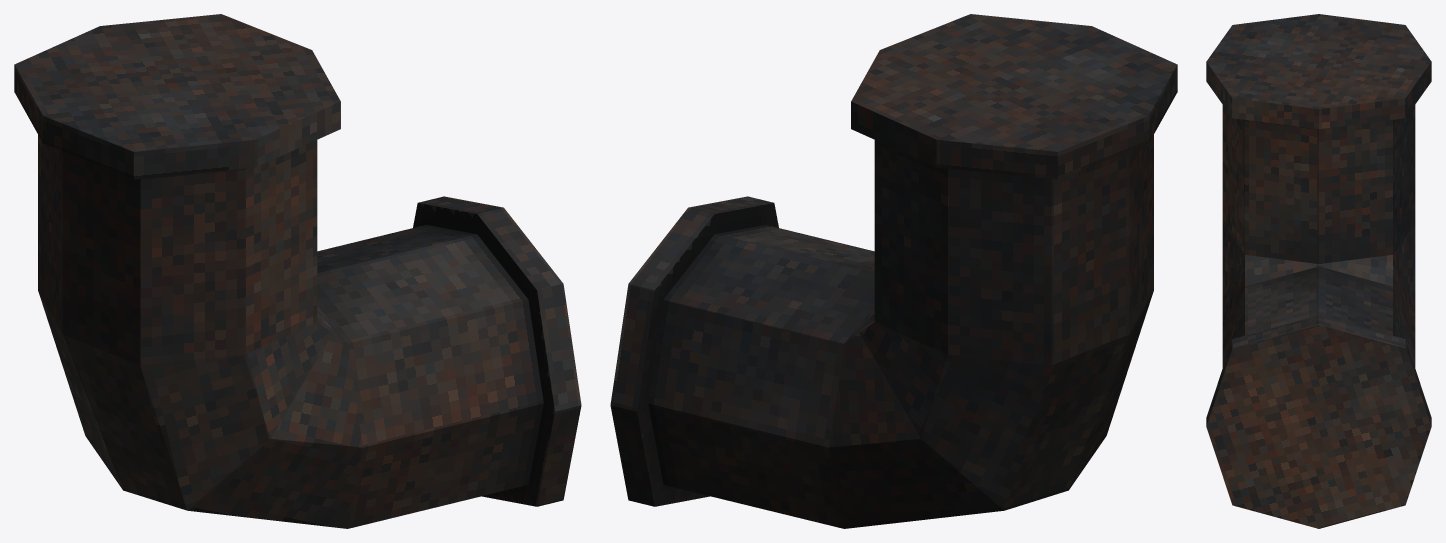
The model's file is PipeAngle.glb.
3 views of the same model, side by side, from view 1: azimuth 30°, elevation 25°; view 2: azimuth 150°, elevation 25°; view 3: azimuth 270°, elevation 25° (orthographic). The views are drawn at different scales.
Parts seen in each view (by area): view 1: Cube.024; view 2: Cube.024; view 3: Cube.024.
Part boxes in pixels (box(x1,y1,x2,y2)): Cube.024: box(14, 14, 581, 528); Cube.024: box(610, 14, 1177, 528); Cube.024: box(1206, 14, 1431, 528).
Bounding box in the file's own units: 0.9627 × 0.97 × 0.5622.
Materials: 1 (1 with a texture image).
